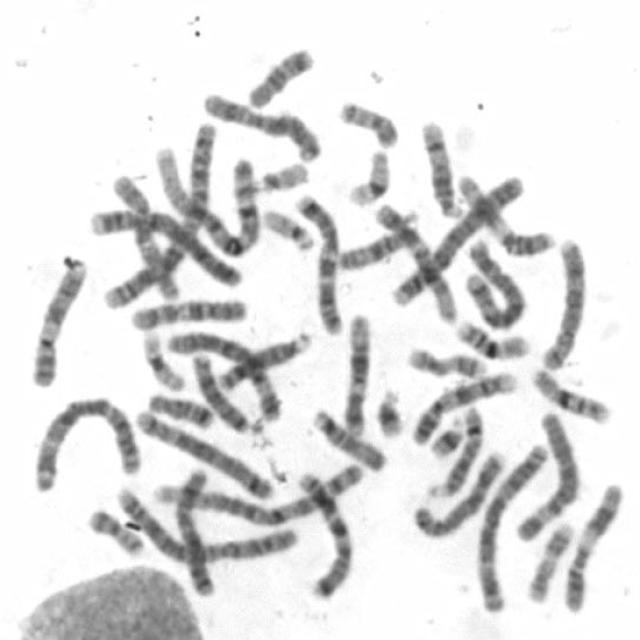A1: (150, 457, 368, 528), (150, 138, 263, 257)
A2: (97, 115, 221, 311), (108, 479, 306, 564)
A3: (469, 436, 552, 616), (26, 388, 144, 495)
B4: (386, 169, 527, 310), (84, 199, 248, 291)
B5: (133, 402, 279, 502), (458, 231, 530, 331)
C10: (106, 166, 186, 304), (125, 291, 252, 332)
C11: (556, 475, 626, 614), (453, 167, 557, 259)
C12: (369, 197, 460, 325), (338, 306, 373, 438)
C6: (163, 325, 286, 424), (510, 404, 583, 545)
C7: (289, 463, 357, 602), (288, 183, 344, 337)
C8: (410, 443, 510, 541), (536, 231, 590, 372)
C9: (408, 365, 522, 447), (26, 249, 90, 390)
D13: (212, 325, 314, 393), (187, 347, 254, 436)
D14: (421, 398, 485, 500), (414, 112, 466, 220)
D15: (334, 204, 422, 274), (306, 402, 390, 474)
E16: (525, 360, 613, 425), (449, 313, 532, 360)
E17: (520, 514, 576, 605), (401, 339, 490, 380)
E18: (242, 40, 318, 111), (143, 385, 219, 431)
F19: (136, 325, 189, 392), (342, 143, 393, 208)
F20: (80, 501, 148, 558), (333, 93, 401, 149)
G21: (426, 408, 468, 460), (371, 381, 407, 440)
G22: (258, 201, 318, 253), (251, 154, 313, 194)
X: (196, 86, 324, 164), (171, 460, 218, 598)
